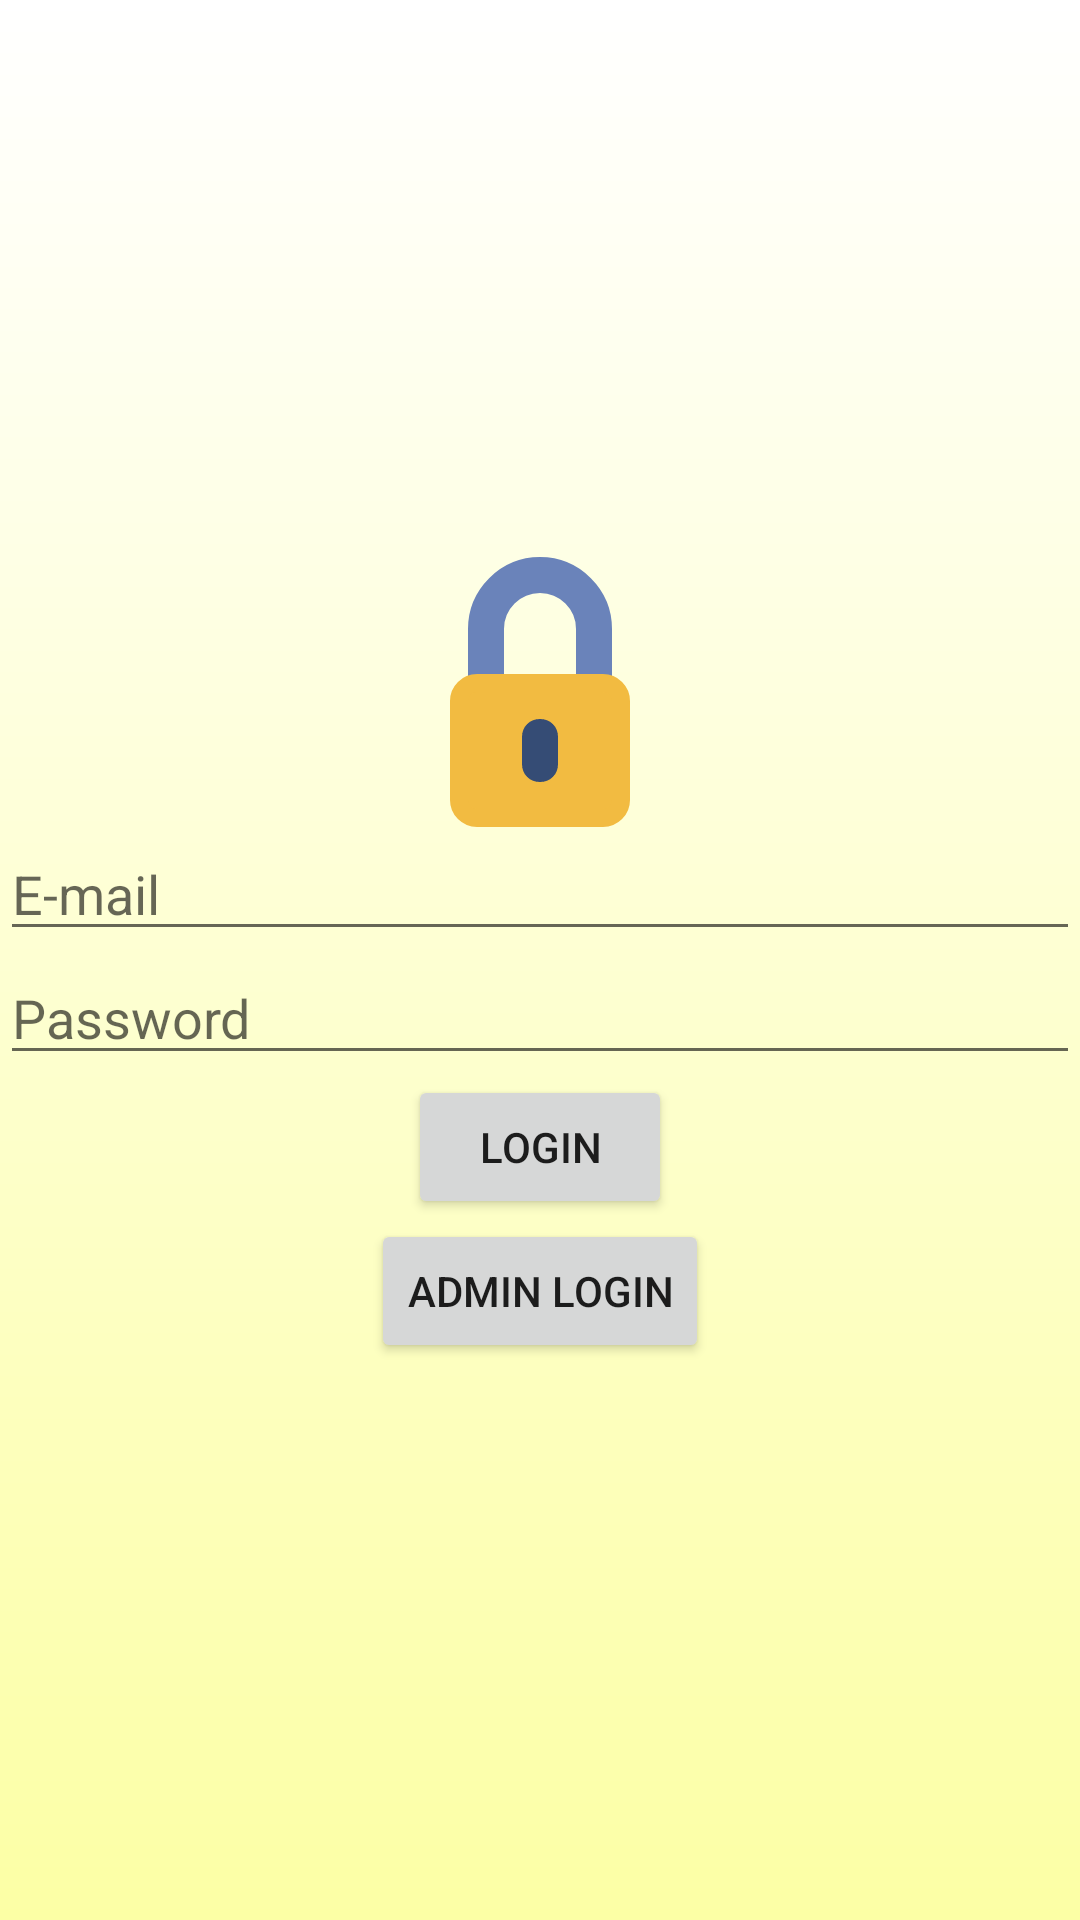

Icon click points for this 1080 × 1920 phone screenshot, format (x,y):
lock: (540,692)
